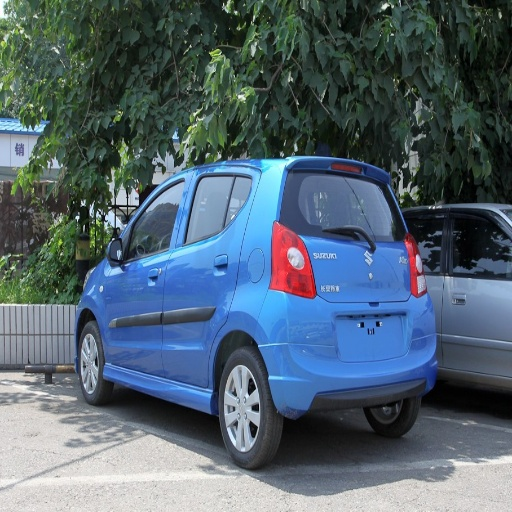back_bumper: (262, 296, 443, 417)
back_glass: (281, 172, 401, 239)
back_left_door: (165, 171, 246, 390)
tailgate: (365, 262, 406, 317)
trunk: (311, 239, 416, 355)
